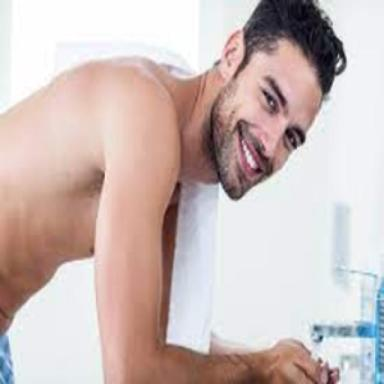normal skin: (0, 60, 252, 384)
